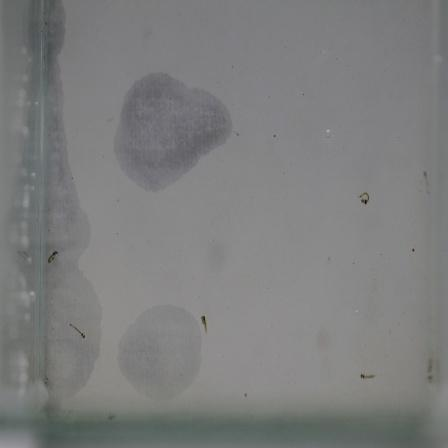Jentik-Nyamuk: (64, 316, 91, 341), (44, 244, 66, 272), (356, 187, 377, 215), (354, 367, 381, 387), (199, 312, 215, 336)
